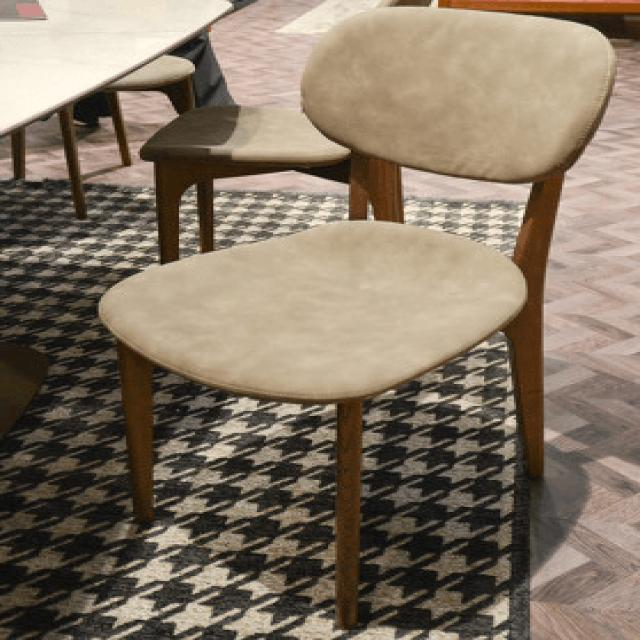chair: (92, 4, 622, 635), (85, 8, 618, 404)
